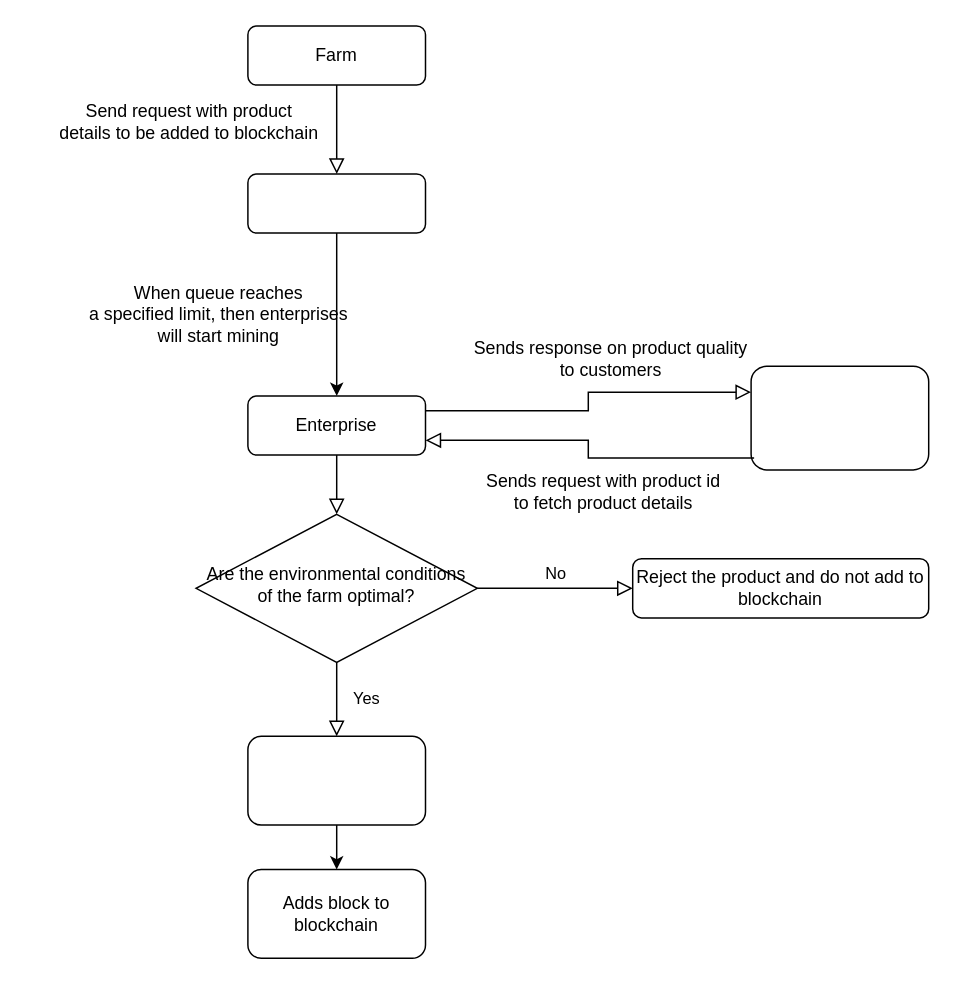
Image size: 955x984. Some labels were removed from this diagram. Here are the shapes that lost their labels. From the top down, the centre of each, then its label:
At [336,202]: "Requests added to FIFO queue".
At [839,417]: "Customers".
At [336,780]: "Decides product quality based on the environmental conditions".
